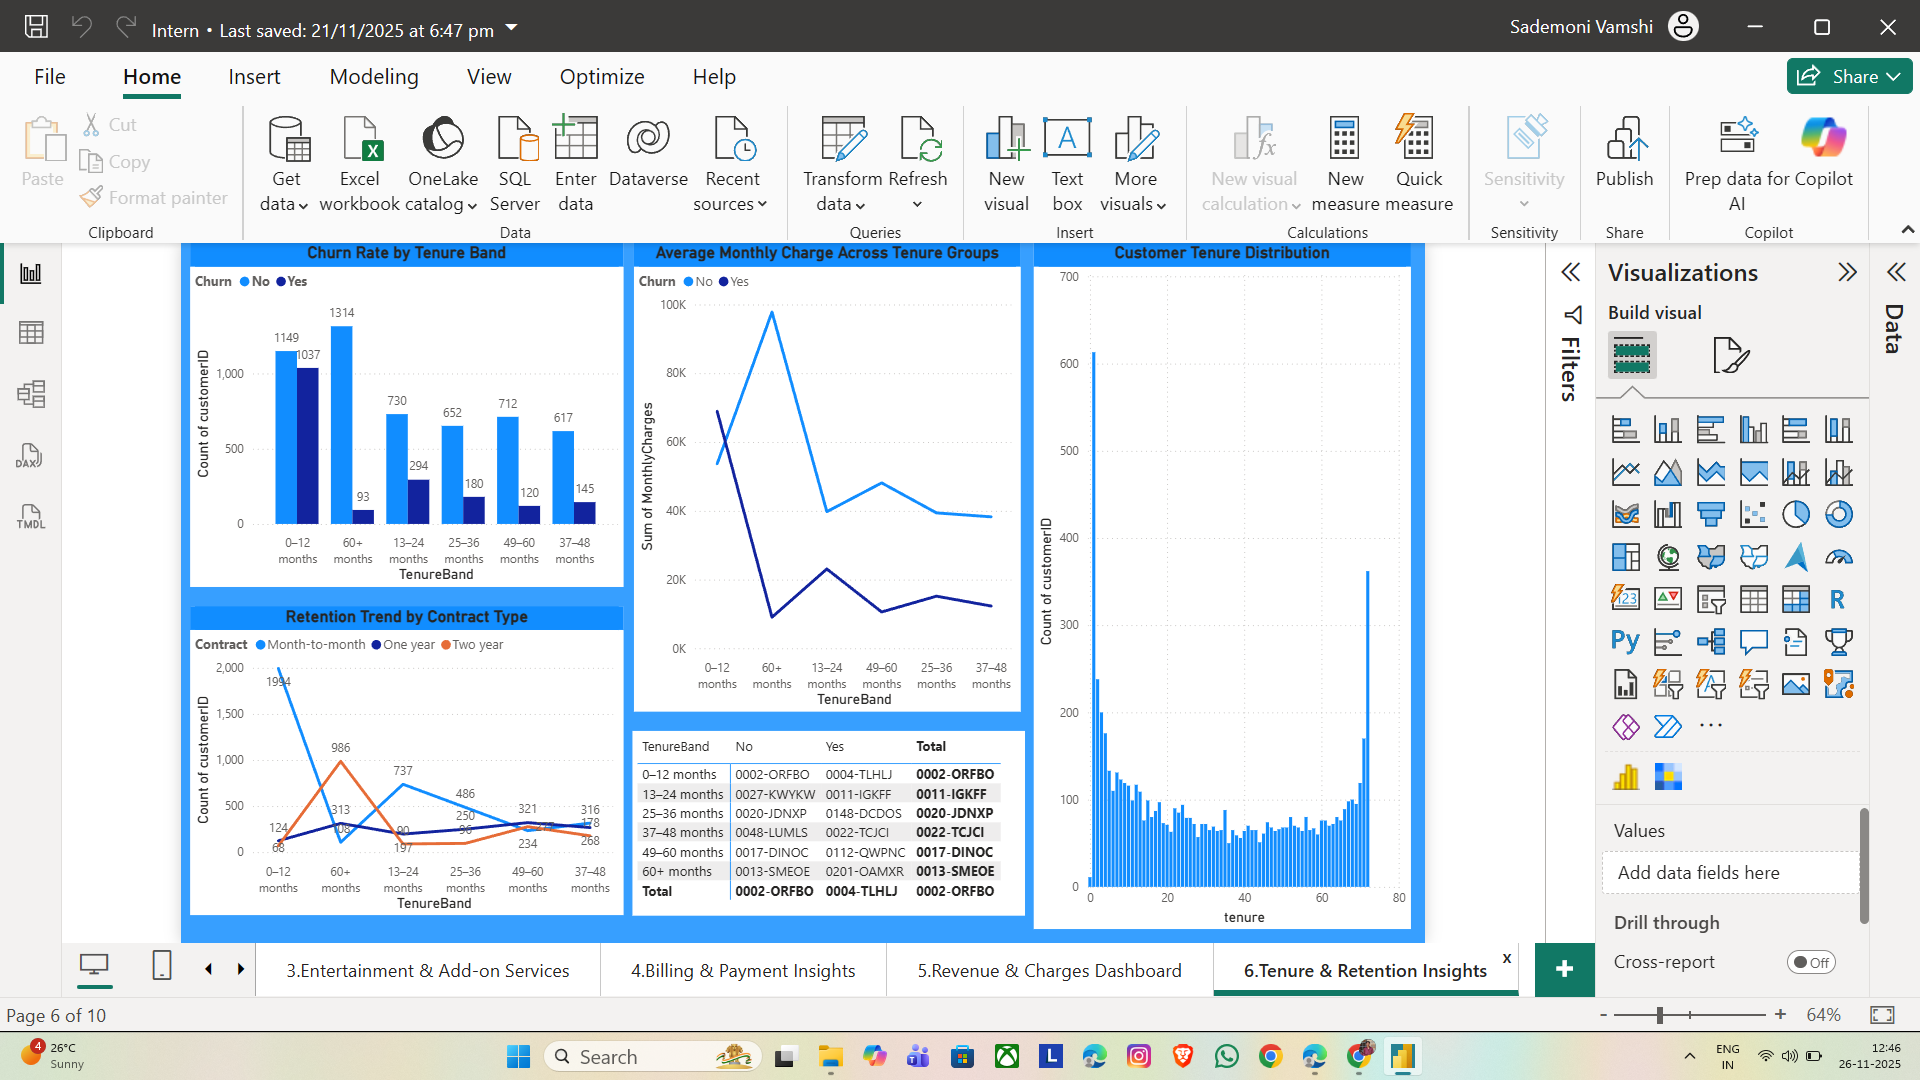

What the dashboard file says about the page in this screenshot:
{"tool":"powerbi","page":{"name":"6.Tenure & Retention Insights","canvas":[1280,720],"ordinal":5},"visuals":[{"type":"clusteredColumnChart","title":"Churn Rate by Tenure Band","fields":{"Category":["Telco_Customer_Churn.TenureBand"],"Y":["CountNonNull(Telco_Customer_Churn.customerID)"],"Series":["Telco_Customer_Churn.Churn"]},"box":[10,0,446,354],"z":0},{"type":"lineChart","title":"Retention Trend by Contract Type","fields":{"Category":["Telco_Customer_Churn.TenureBand"],"Y":["CountNonNull(Telco_Customer_Churn.customerID)"],"Series":["Telco_Customer_Churn.Contract"]},"box":[10,374,446,318],"z":1000},{"type":"lineChart","title":"Average Monthly Charge Across Tenure Groups","fields":{"Category":["Telco_Customer_Churn.TenureBand"],"Y":["Sum(Telco_Customer_Churn.MonthlyCharges)"],"Series":["Telco_Customer_Churn.Churn"]},"box":[466,0,398,482],"z":2000},{"type":"pivotTable","fields":{"Rows":["Telco_Customer_Churn.TenureBand"],"Columns":["Telco_Customer_Churn.Churn"],"Values":["Min(Telco_Customer_Churn.customerID)"]},"box":[464,502,404,190],"z":3000},{"type":"clusteredColumnChart","title":"Customer Tenure Distribution","fields":{"Category":["Telco_Customer_Churn.tenure"],"Y":["CountNonNull(Telco_Customer_Churn.customerID)"]},"box":[878,0,388,706],"z":4000}]}

Visuals, with their boxes on the page's 1280x720 design canvas (x1, y1, x2, y2). These are canvas units, not pixel positions in the 1920x1080 screenshot, which may show the page scaled, cropped or inside an application window:
"Churn Rate by Tenure Band" clusteredColumnChart: Rect(10, 0, 456, 354)
"Retention Trend by Contract Type" lineChart: Rect(10, 374, 456, 692)
"Average Monthly Charge Across Tenure Groups" lineChart: Rect(466, 0, 864, 482)
pivotTable - Telco_Customer_Churn.TenureBand x Telco_Customer_Churn.Churn: Rect(464, 502, 868, 692)
"Customer Tenure Distribution" clusteredColumnChart: Rect(878, 0, 1266, 706)
